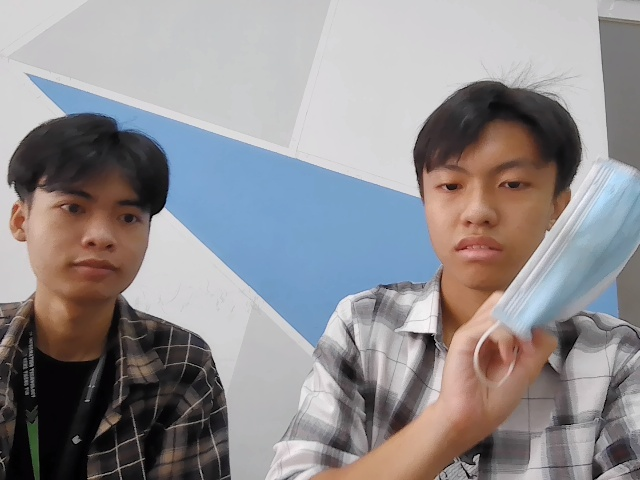human: (423, 83, 573, 296), (7, 108, 175, 298)
mask: (499, 151, 640, 348)
